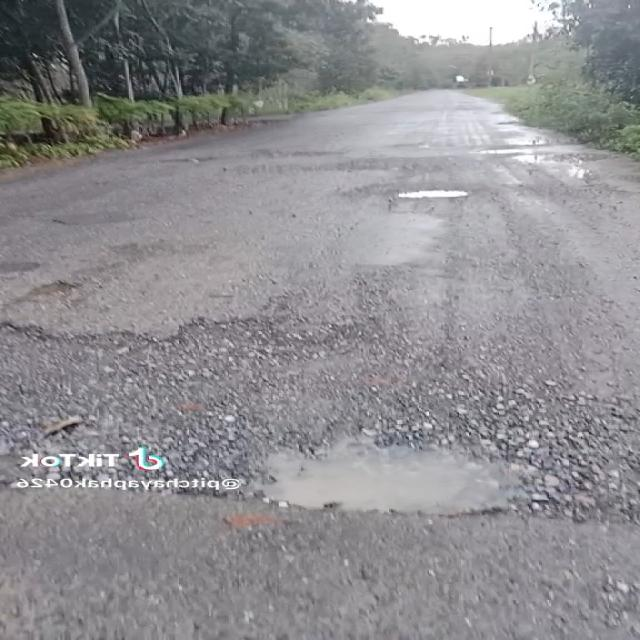Poth-hole: (200, 338, 537, 554)
